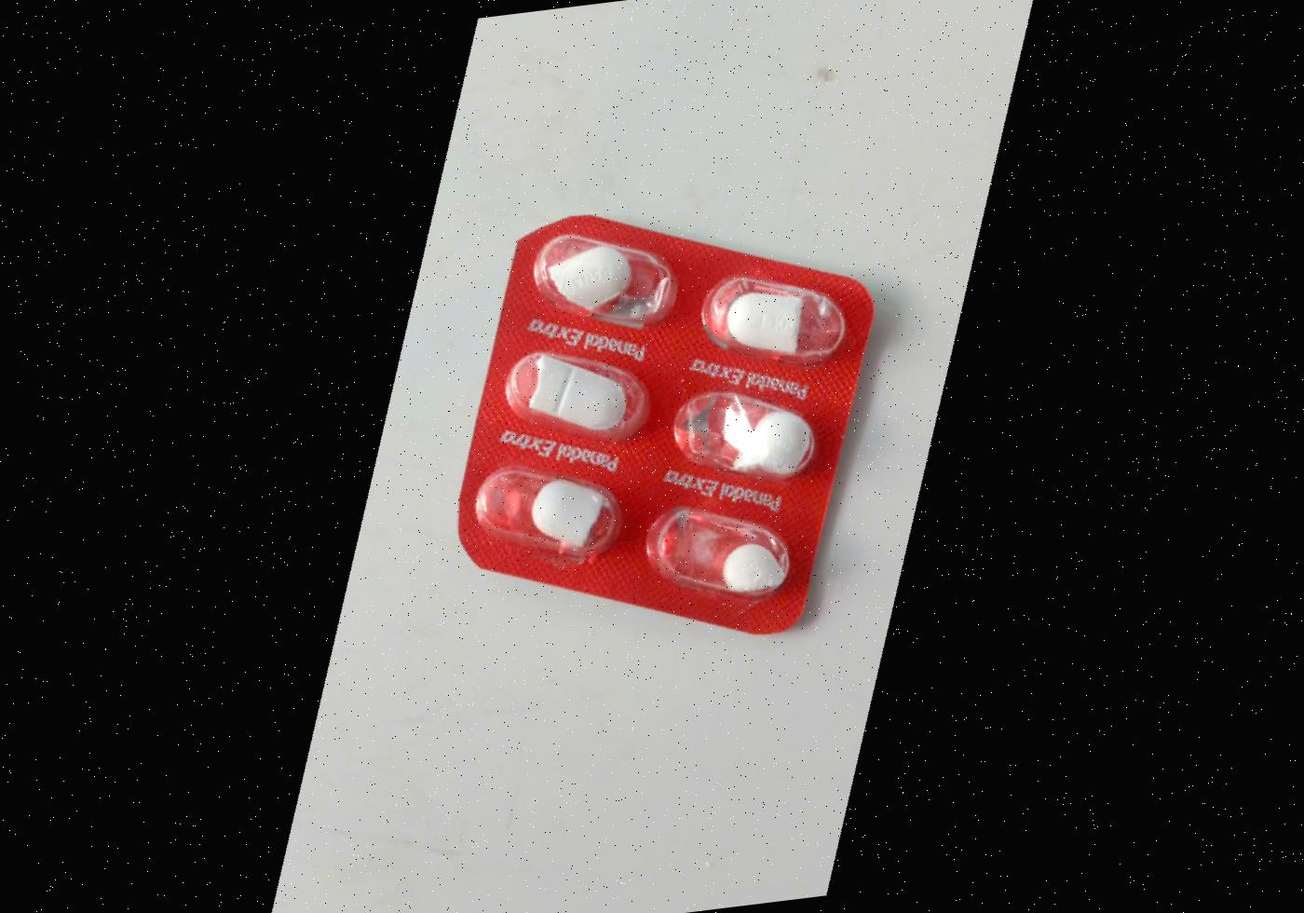Partial: (646, 374, 826, 513), (491, 328, 670, 467), (634, 489, 814, 627), (692, 256, 872, 394), (520, 211, 700, 349), (463, 447, 642, 585)
